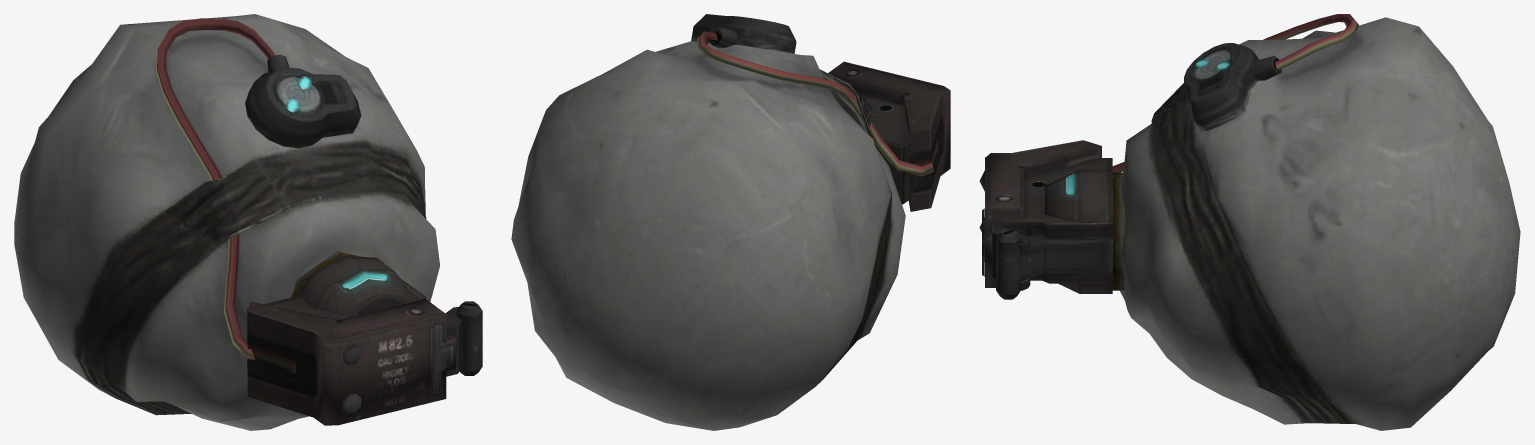
The model's file is t6_wpn_grenade_semtex_world_LOD0.obj.
3 views of the same model, side by side, from view 1: azimuth 30°, elevation 25°; view 2: azimuth 150°, elevation 25°; view 3: azimuth 270°, elevation 25° (orthographic). The views are drawn at different scales.
Visible parts, largest first — view 1: mtl_t6_wpn_grenade_semtex; view 2: mtl_t6_wpn_grenade_semtex; view 3: mtl_t6_wpn_grenade_semtex.
Part boxes in pixels (x1,y1,x2,y2): mtl_t6_wpn_grenade_semtex: [14, 14, 482, 430]; mtl_t6_wpn_grenade_semtex: [511, 14, 950, 430]; mtl_t6_wpn_grenade_semtex: [979, 14, 1520, 430].
Size of the model in its own units: 8.19 by 8.59 by 11.3.
